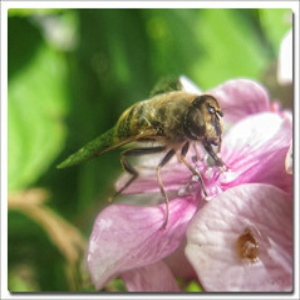bee: (63, 82, 226, 178)
